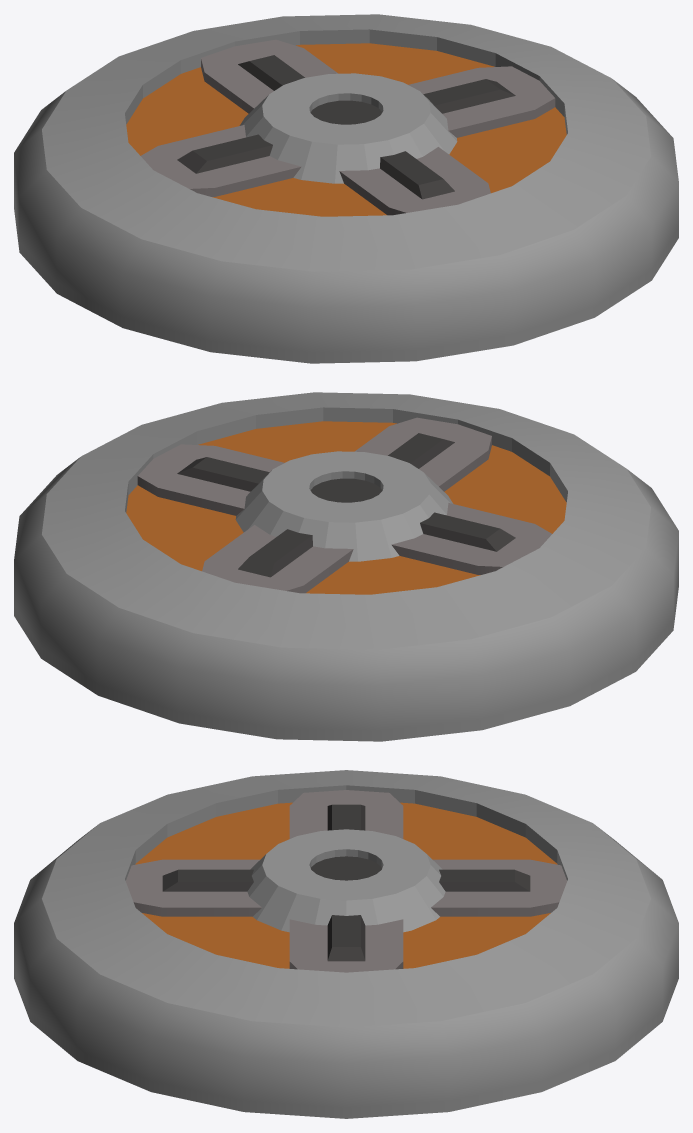
File: Grenade.fbx
3 renders of one model, top to bottom at view 1: azimuth 30°, elevation 25°; view 2: azimuth 150°, elevation 25°; view 3: azimuth 270°, elevation 25°, orthographic.
Visible parts, largest first — view 1: pCube7; view 2: pCube7; view 3: pCube7.
Part boxes in pixels (x1,y1,x2,y2): pCube7: (14,14,678,363); pCube7: (14,392,678,741); pCube7: (14,770,678,1118).
Size of the model in its own units: 0.7457 by 0.1404 by 0.7457.
